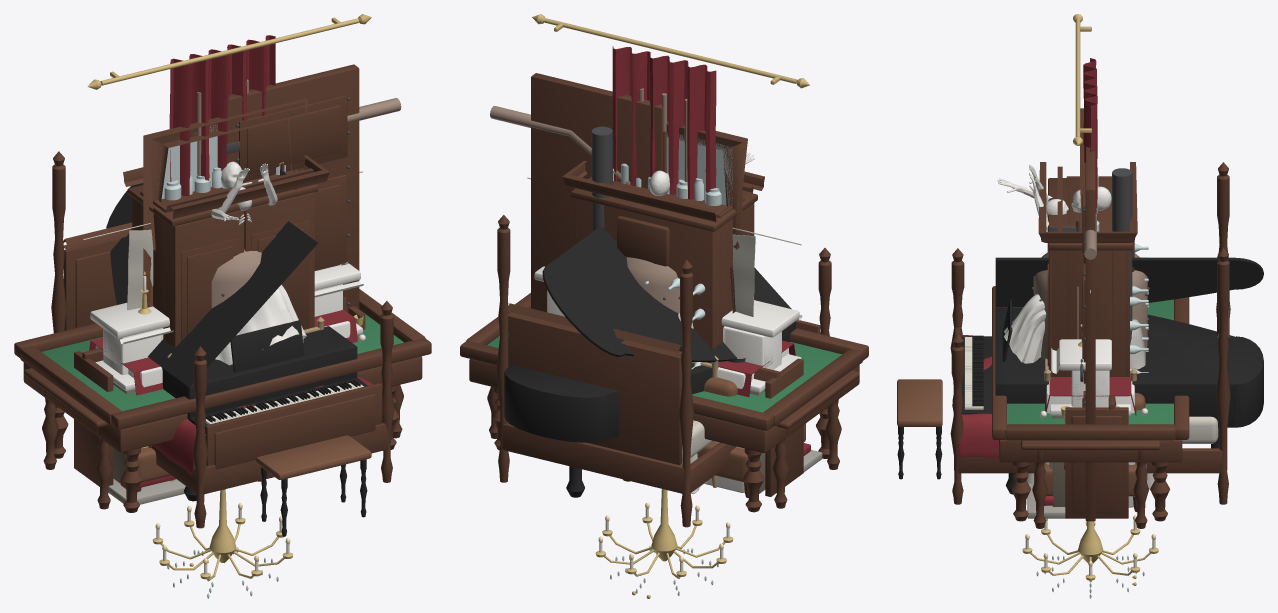
Rendered from furniture.glb.
The picture shows the model from 3 angles, left to right: view 1: azimuth 30°, elevation 25°; view 2: azimuth 150°, elevation 25°; view 3: azimuth 270°, elevation 25°; orthographic projection. The views are drawn at different scales.
Visible parts, largest first — view 1: GateDoor_Wood, Piano_Lid, footboard, curtain, Wardrobe_DoorL, pcase, brail, Wardrobe_DoorR, wfr, headboard, bbody.001, pbench (+42 smaller); view 2: GateDoor_Wood, headboard, Piano_Lid, curtain, pcase, rail.001, wback, bbody.001, post.002, post.003, wcrown, wfr (+31 smaller); view 3: pcase, Piano_Lid, pend.001, GateDoor_Wood, ws.001, bs.001, brail.003, bbody.001, post.003, siderail.001, bfelt, pbench (+36 smaller).
Part boxes in pixels (box(x1,y1,x2,y2)): GateDoor_Wood: box(227, 64, 359, 312); Piano_Lid: box(106, 183, 317, 387); footboard: box(205, 383, 382, 469); curtain: box(169, 35, 275, 196); Wardrobe_DoorL: box(173, 210, 244, 347); pcase: box(161, 326, 357, 419); brail: box(111, 338, 431, 429); Wardrobe_DoorR: box(244, 192, 314, 329); wfr: box(143, 98, 308, 307); headboard: box(63, 238, 121, 330); bbody.001: box(23, 356, 422, 452); pbench: box(256, 435, 371, 479); GateDoor_Wood: box(531, 73, 663, 312); headboard: box(508, 316, 681, 465); Piano_Lid: box(542, 226, 791, 362); curtain: box(612, 46, 716, 199); pcase: box(504, 321, 795, 442); rail.001: box(502, 422, 684, 493); wback: box(575, 198, 714, 363); bbody.001: box(469, 359, 859, 452); post.002: box(679, 259, 693, 527); post.003: box(496, 215, 510, 482); wcrown: box(562, 160, 764, 222); wfr: box(666, 121, 747, 313); pcase: box(995, 307, 1263, 427); Piano_Lid: box(995, 257, 1263, 307); pend.001: box(1065, 407, 1128, 518); GateDoor_Wood: box(1082, 147, 1095, 521); ws.001: box(1051, 250, 1129, 376); bs.001: box(1066, 250, 1113, 364); brail.003: box(1005, 424, 1175, 440); bbody.001: box(999, 439, 1182, 462); post.003: box(1216, 248, 1230, 504); siderail.001: box(958, 448, 1222, 473); bfelt: box(1007, 299, 1173, 424); pbench: box(897, 379, 942, 426).
Bounding box in the file's own units: 2.9 × 4.43 × 2.9.
